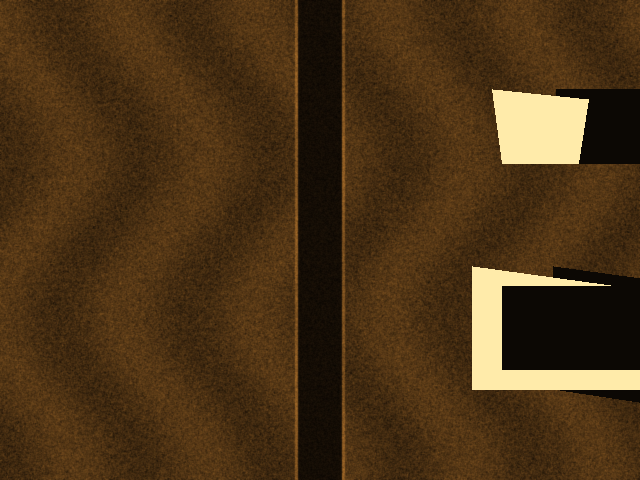Other Man-made Debris: (492, 89, 588, 163)
Ship/Boat Debris: (472, 266, 640, 389)
